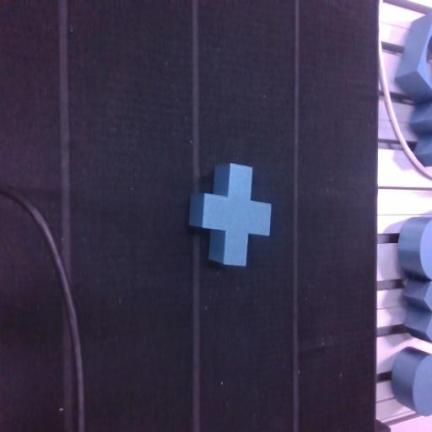cross: (189, 164, 270, 265)
